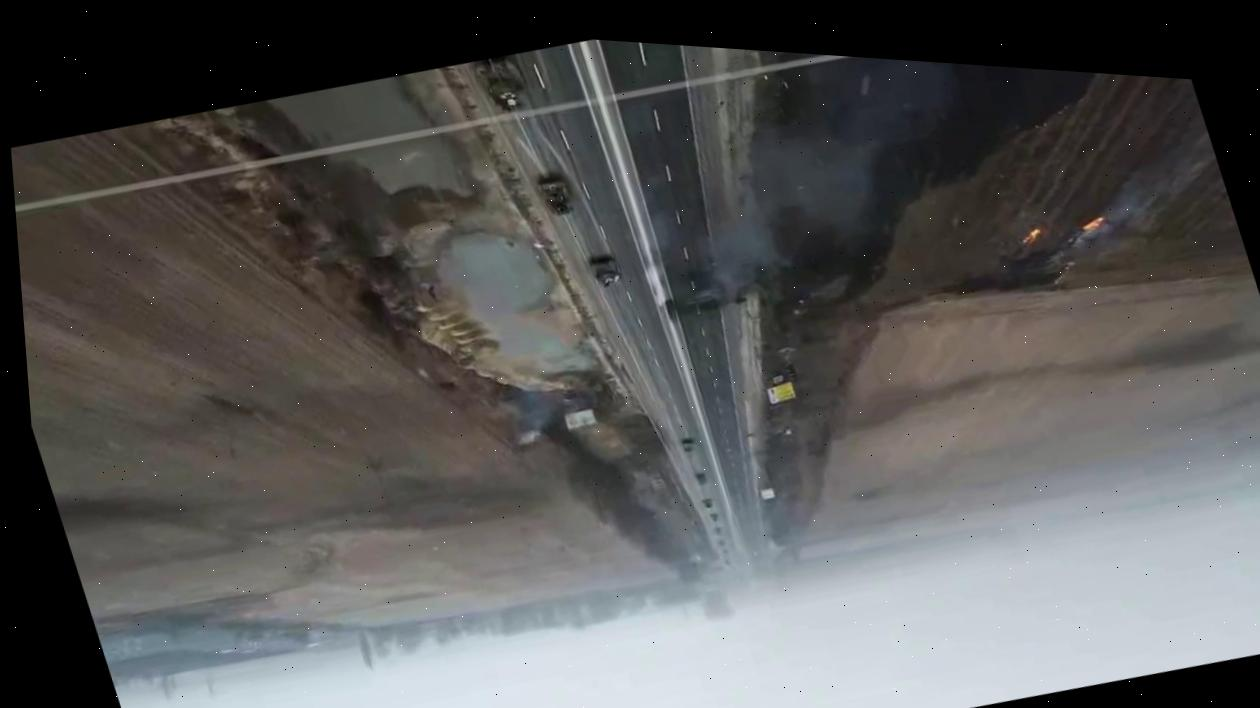tank: (470, 49, 533, 115), (529, 167, 581, 226), (580, 244, 631, 296)
